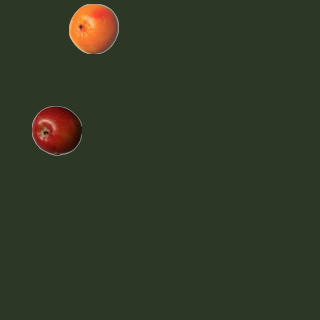Apple Braeburn: (31, 105, 81, 155)
Grapefruit Pink: (68, 3, 118, 53)
